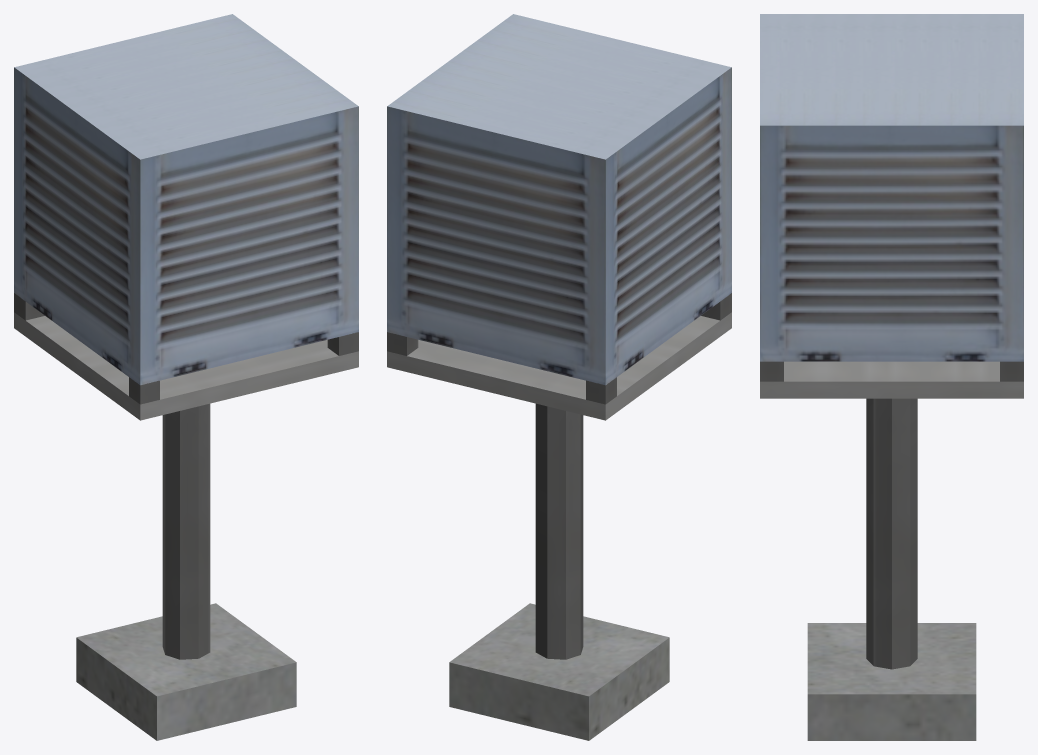
Rendered from weather-station-stevenson-screen-cbj_LOD00.gltf.
3 views of the same model, side by side, from view 1: azimuth 30°, elevation 25°; view 2: azimuth 150°, elevation 25°; view 3: azimuth 270°, elevation 25° (orthographic). The views are drawn at different scales.
Visible parts, largest first — view 1: Cube; view 2: Cube; view 3: Cube.
Part boxes in pixels (left/top/right/bottom): Cube: left=14, top=14, right=358, bottom=740; Cube: left=387, top=14, right=731, bottom=740; Cube: left=760, top=14, right=1023, bottom=740.
Size of the model in its own units: 0.6157 by 1.64 by 0.6157.
